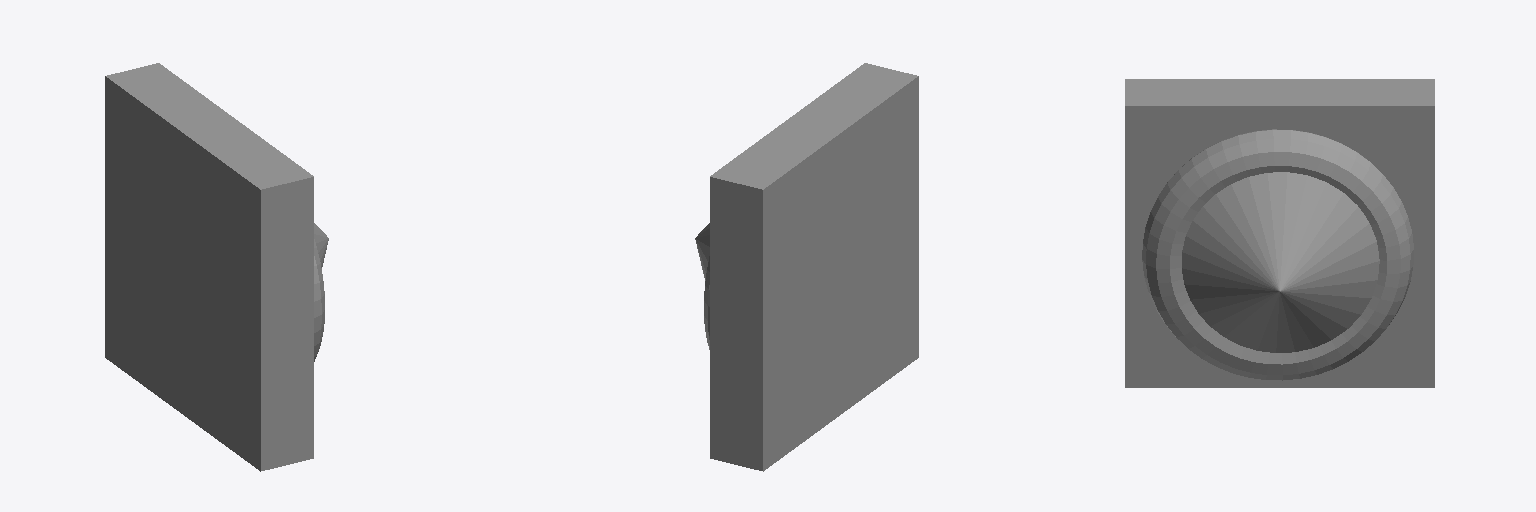
File: black_hole_stabilizer.obj
3 views of the same model, side by side, from view 1: azimuth 30°, elevation 25°; view 2: azimuth 150°, elevation 25°; view 3: azimuth 270°, elevation 25° (orthographic).
Visible parts, largest first — view 1: Cube_Cube.001, Torus; view 2: Cube_Cube.001; view 3: Cube_Cube.001, Cone, Torus.
Boxes of the visible parts, box(x1,y1,x2,y2) form: Cube_Cube.001: box(105, 63, 313, 471); Torus: box(314, 239, 324, 361); Cube_Cube.001: box(710, 63, 918, 471); Cube_Cube.001: box(1125, 79, 1434, 387); Cone: box(1182, 172, 1379, 352); Torus: box(1142, 129, 1413, 380).
Bounding box in the file's own units: 0.5426 × 1 × 1.